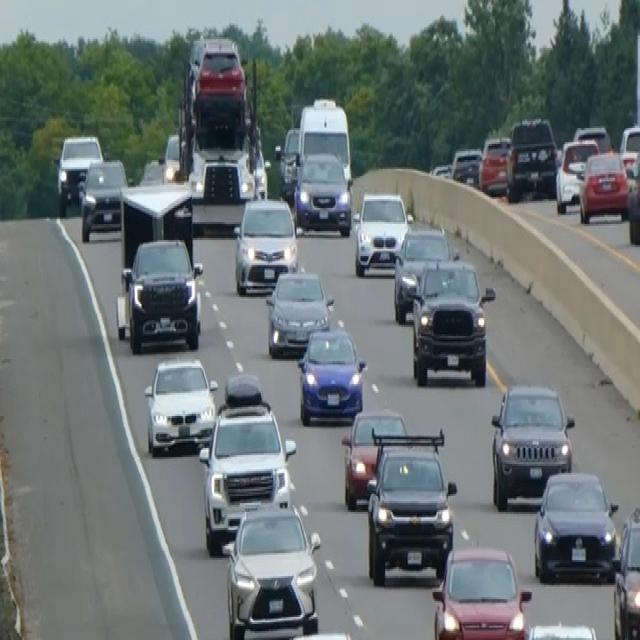car: (197, 371, 296, 553), (221, 498, 321, 638), (489, 380, 574, 510), (410, 256, 495, 386), (116, 235, 203, 352), (532, 468, 618, 583), (431, 542, 531, 638), (143, 354, 217, 455), (296, 322, 366, 425), (340, 407, 407, 509), (232, 194, 298, 295), (392, 224, 455, 324), (265, 267, 334, 357), (352, 188, 410, 276), (505, 114, 558, 201), (79, 156, 128, 242), (54, 132, 103, 214), (578, 148, 629, 224), (612, 503, 639, 638), (554, 137, 598, 213), (478, 134, 511, 196), (520, 620, 603, 638), (450, 146, 482, 187), (626, 144, 639, 244), (573, 122, 611, 154), (161, 132, 184, 182), (618, 123, 639, 176), (250, 149, 271, 199), (279, 630, 360, 638)
jeep: (364, 426, 457, 586)
lorry: (177, 32, 267, 231)
minibus: (292, 93, 354, 235)
